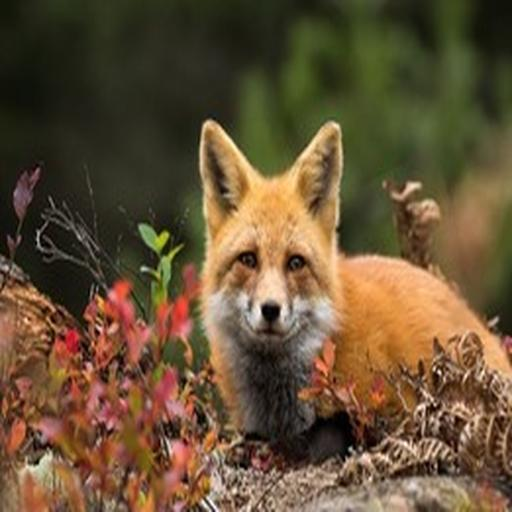Fox: (195, 108, 512, 463)
